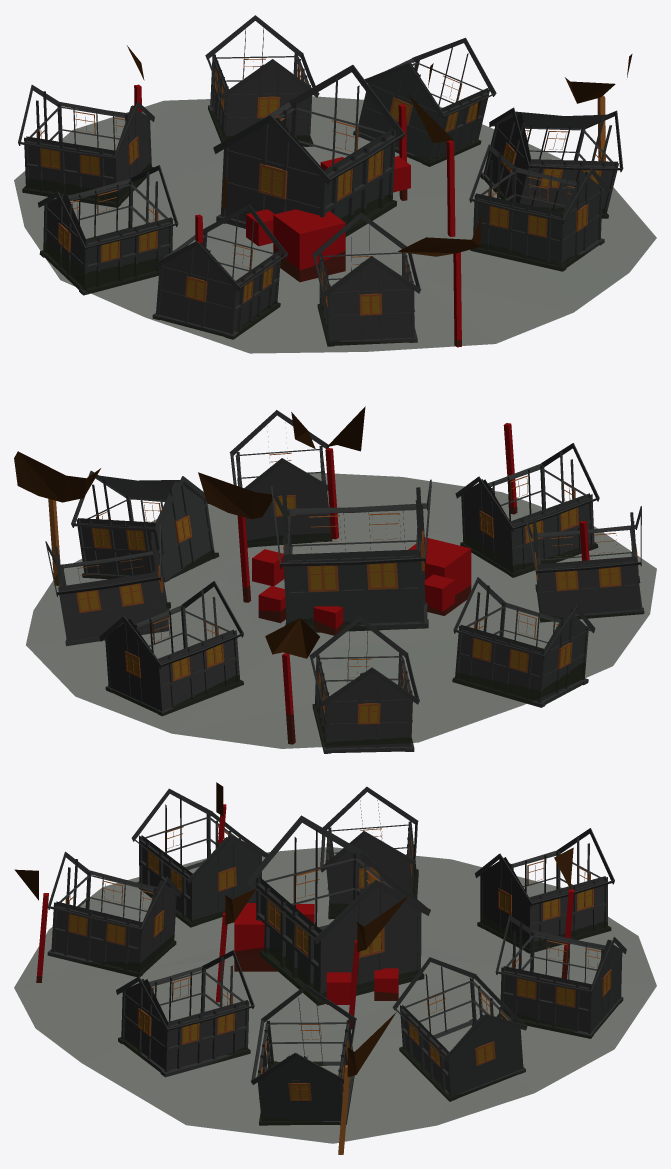
The model's file is Ruins.glb.
3 views of the same model, one above another, from view 1: azimuth 30°, elevation 25°; view 2: azimuth 150°, elevation 25°; view 3: azimuth 270°, elevation 25° (orthographic). The views are drawn at different scales.
Parts seen in each view (by area): view 1: City European 0; view 2: City European 0; view 3: City European 0.
Part boxes in pixels (bbox=[...]): City European 0: bbox=[14, 15, 656, 353]; City European 0: bbox=[14, 406, 656, 753]; City European 0: bbox=[14, 782, 656, 1154].
Bounding box in the file's own units: 3.39 × 1.1 × 3.32.
